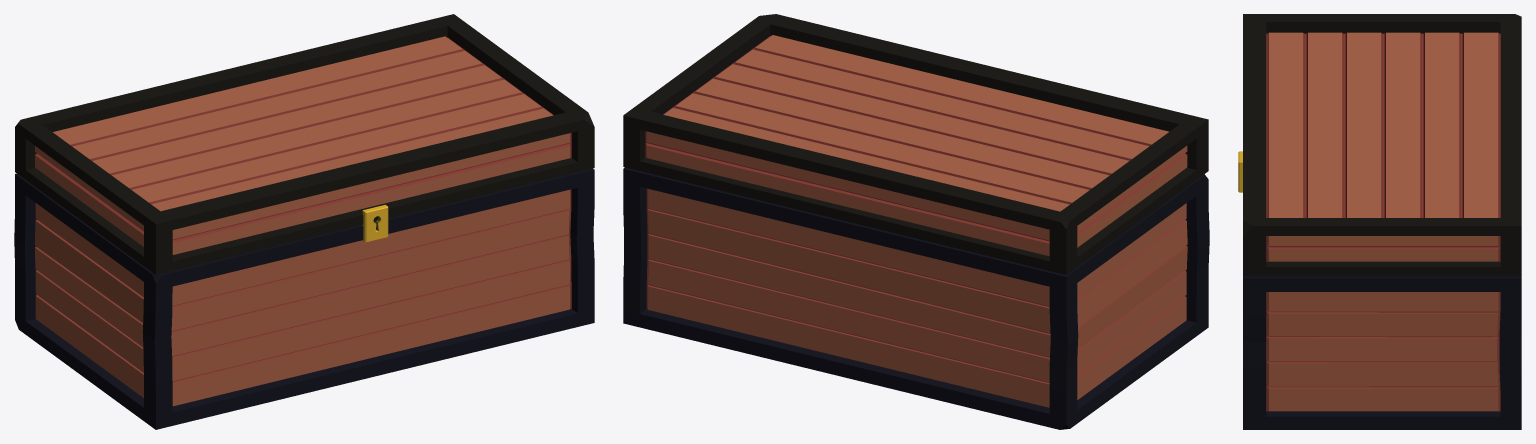
Rendered from coffer.fbx.
3 renders of one model, left to right at view 1: azimuth 30°, elevation 25°; view 2: azimuth 150°, elevation 25°; view 3: azimuth 270°, elevation 25°, orthographic. The views are drawn at different scales.
Parts seen in each view (by area): view 1: coffer; view 2: coffer; view 3: coffer.
Part boxes in pixels (<box>): coffer: <box>14,14,594,429</box>; coffer: <box>623,14,1209,429</box>; coffer: <box>1238,14,1521,429</box>.
Bounding box in the file's own units: 90.23 × 40.35 × 50.81.
